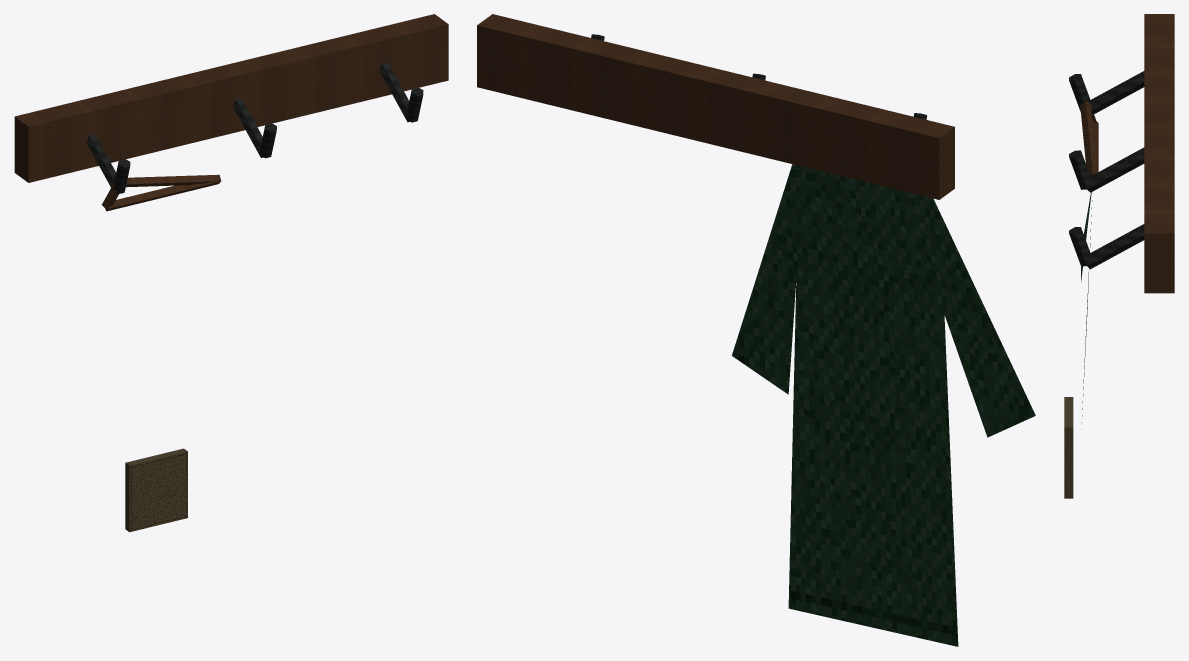
Rendered from rejected-coat-pocket-gap.glb.
3 views of the same model, side by side, from view 1: azimuth 30°, elevation 25°; view 2: azimuth 150°, elevation 25°; view 3: azimuth 270°, elevation 25° (orthographic). The views are drawn at different scales.
Parts seen in each view (by area): view 1: level_house_coat_hung; view 2: level_house_coat_hung; view 3: level_house_coat_hung.
Part boxes in pixels (<box>): level_house_coat_hung: <box>14,14,448,532</box>; level_house_coat_hung: <box>477,14,1035,646</box>; level_house_coat_hung: <box>1064,14,1174,498</box>.
Bounding box in the file's own units: 0.95 × 0.985 × 0.1825.
4 materials, 4 textured.
